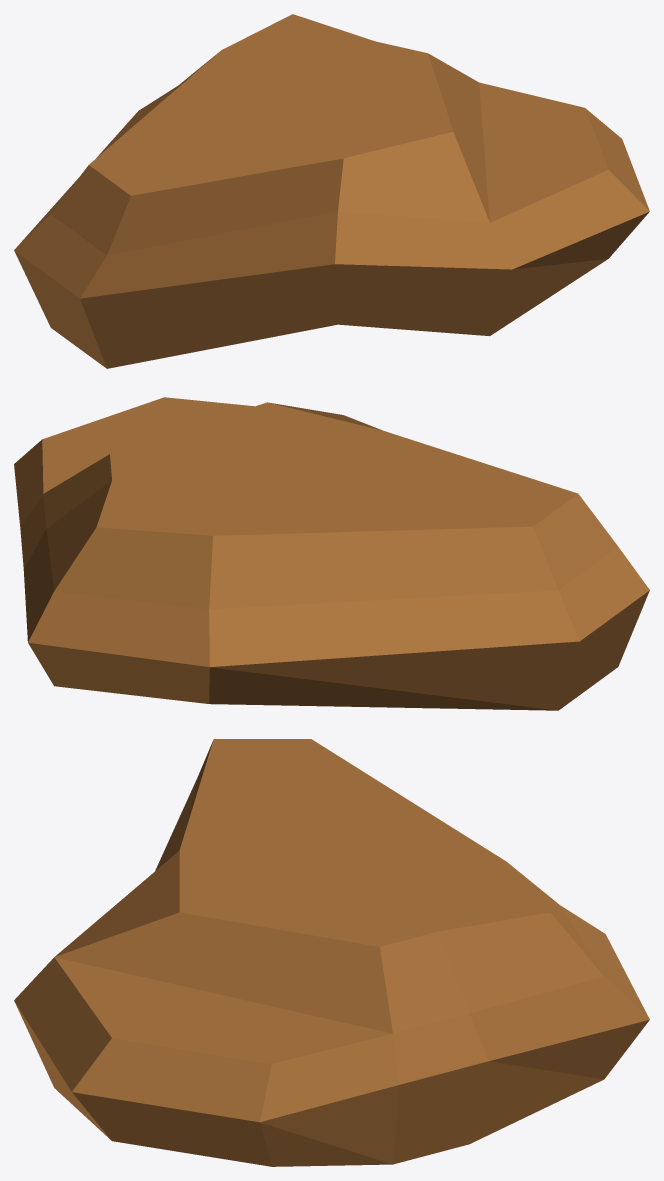
File: 02 Big_Stone.FBX.glb
3 renders of one model, top to bottom at view 1: azimuth 30°, elevation 25°; view 2: azimuth 150°, elevation 25°; view 3: azimuth 270°, elevation 25°, orthographic. The views are drawn at different scales.
Parts seen in each view (by area): view 1: Stone_lit_007.2; view 2: Stone_lit_007.2; view 3: Stone_lit_007.2.
Part boxes in pixels (x1,y1,x2,y2): Stone_lit_007.2: (14,14,649,368); Stone_lit_007.2: (14,397,649,710); Stone_lit_007.2: (14,739,649,1166).
Size of the model in its own units: 4554 by 1225 by 3807.
